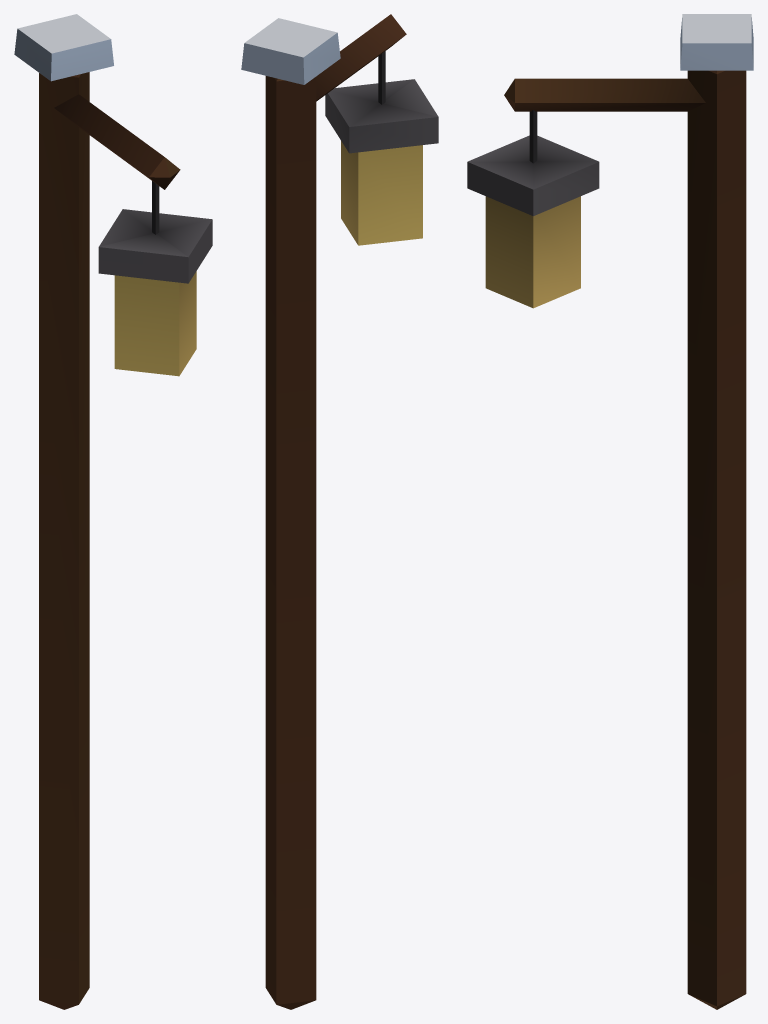
The model's file is Alpine_LanternPole.glb.
The picture shows the model from 3 angles, left to right: view 1: azimuth 30°, elevation 25°; view 2: azimuth 150°, elevation 25°; view 3: azimuth 270°, elevation 25°; orthographic projection.
Visible parts, largest first — view 1: Alpine_LanternPole; view 2: Alpine_LanternPole; view 3: Alpine_LanternPole.
Boxes of the visible parts, x1,y1,x2,y2 form: Alpine_LanternPole: (14,14,212,1009); Alpine_LanternPole: (241,14,438,1009); Alpine_LanternPole: (467,14,753,1009).
Bounding box in the file's own units: 0.36 × 2.95 × 0.78.
